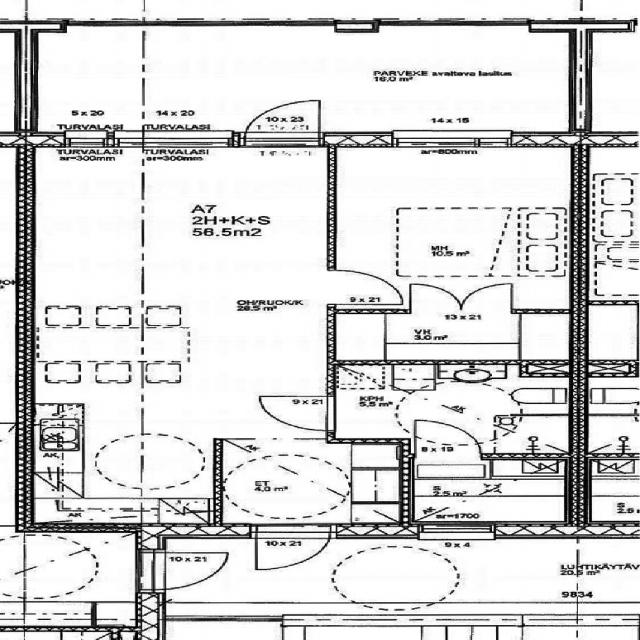door: (255, 523, 330, 576), (245, 95, 318, 147), (414, 420, 482, 460), (260, 396, 335, 430), (327, 270, 402, 304), (460, 284, 512, 314), (410, 284, 461, 314)
